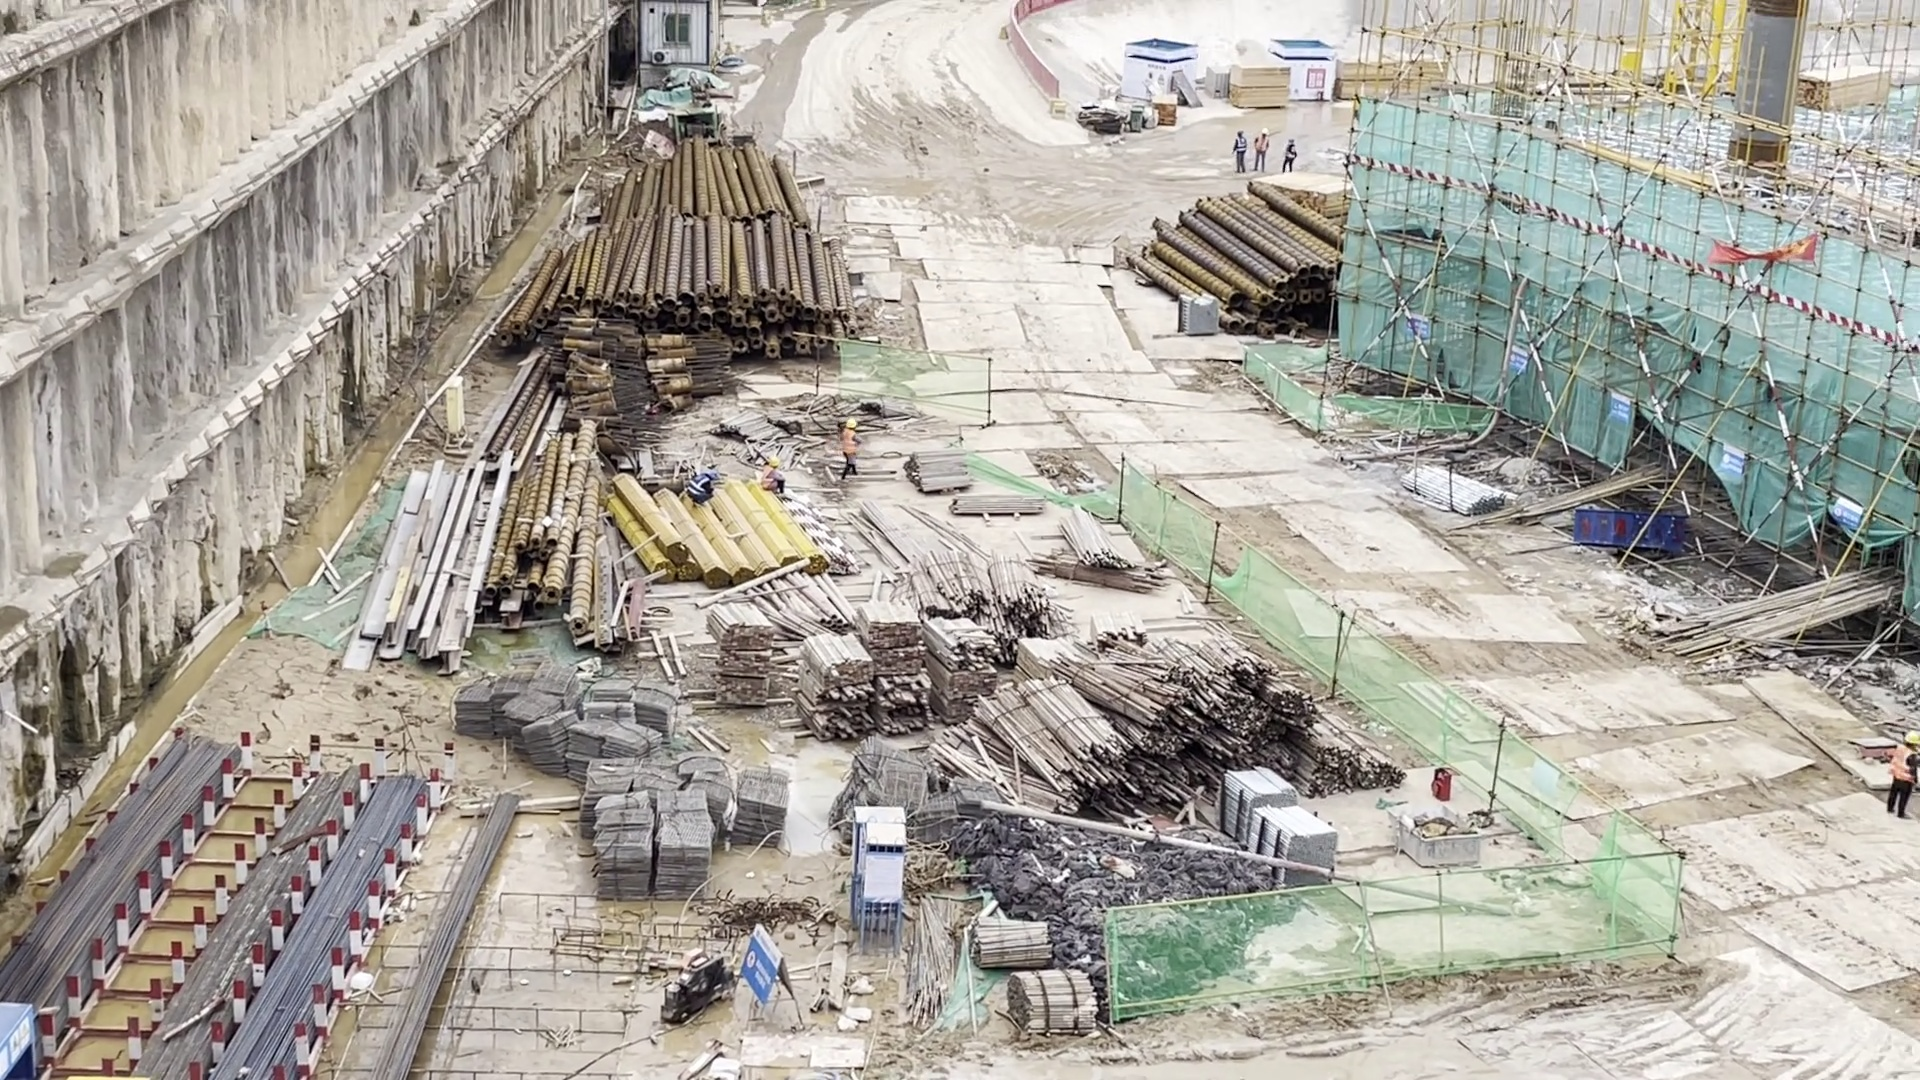helmet: (1901, 731, 1920, 745), (843, 416, 857, 428), (709, 466, 720, 482), (769, 455, 780, 467), (1261, 127, 1270, 136), (1287, 136, 1297, 142), (1235, 130, 1245, 134)
person: (1889, 730, 1920, 816), (839, 417, 859, 479), (689, 464, 719, 501), (761, 454, 787, 493), (1233, 128, 1250, 175), (1255, 126, 1273, 170), (1281, 133, 1298, 173)
vest: (1888, 744, 1916, 781), (689, 472, 709, 499), (763, 466, 780, 492), (841, 428, 855, 457), (1255, 136, 1267, 153), (1286, 143, 1297, 158), (1237, 137, 1248, 153)
